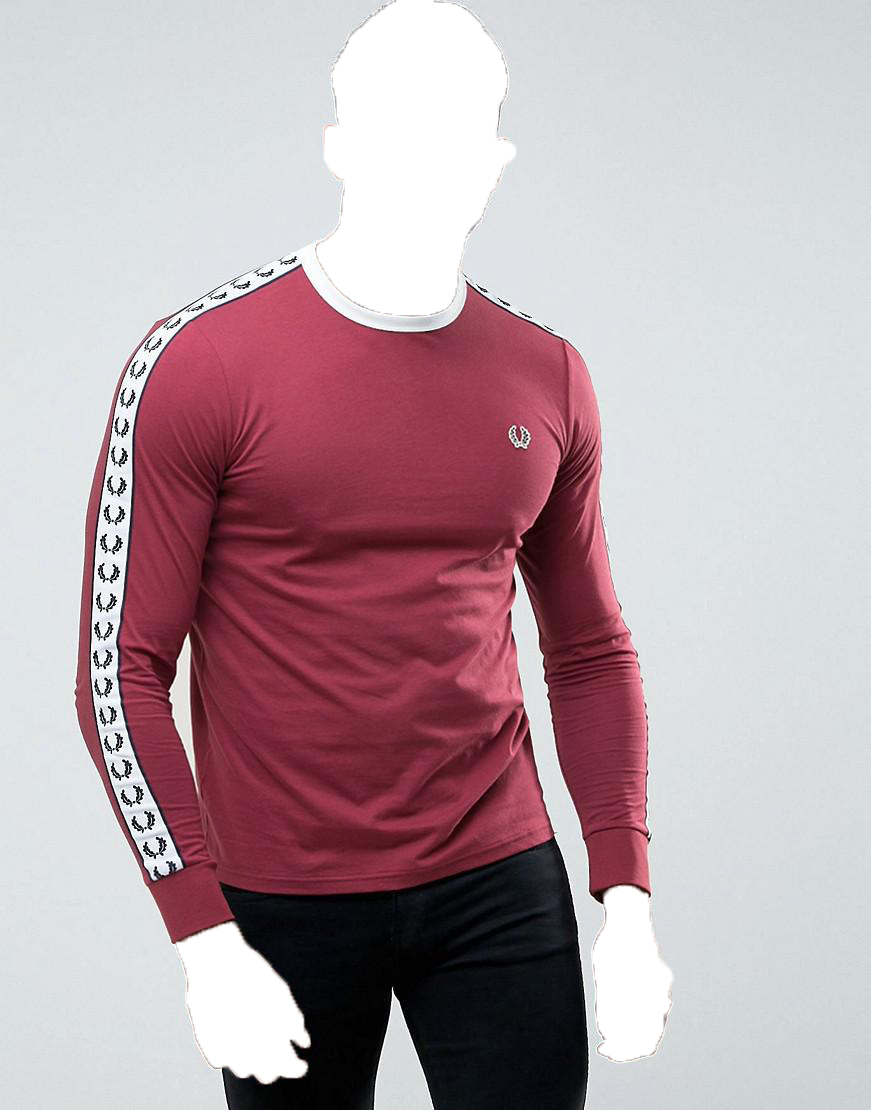teeshirt: (69, 240, 674, 927)
